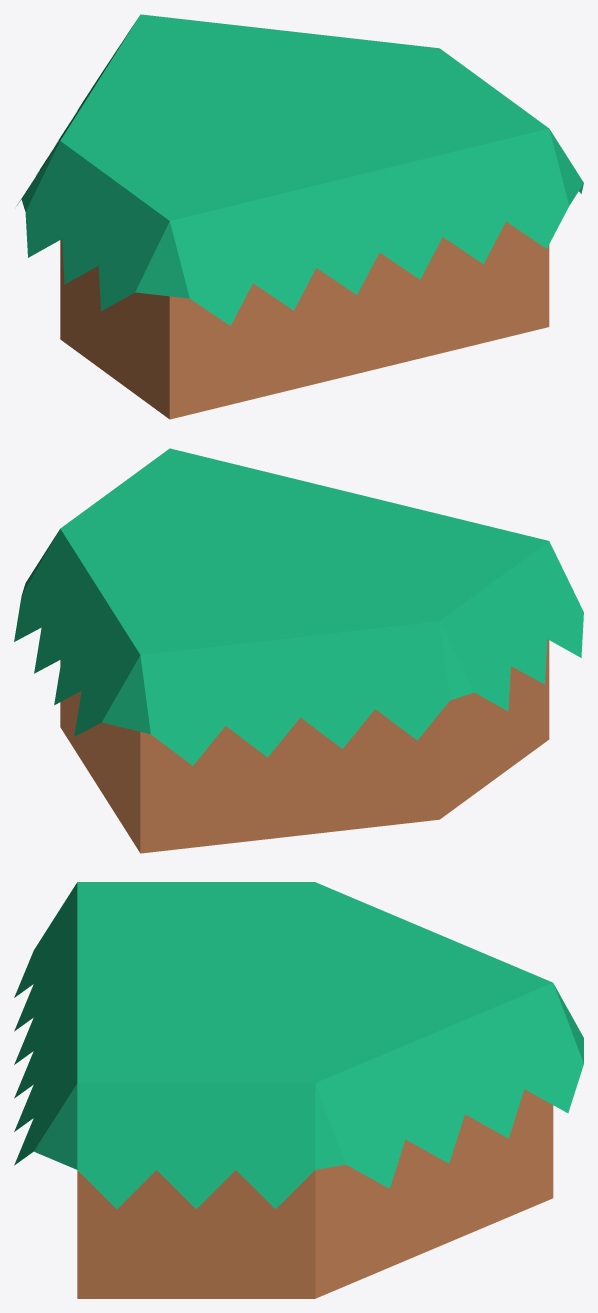
Rendered from blockEnd.dae.
3 views of the same model, one above another, from view 1: azimuth 30°, elevation 25°; view 2: azimuth 150°, elevation 25°; view 3: azimuth 270°, elevation 25° (orthographic). The views are drawn at different scales.
Parts seen in each view (by area): view 1: blockEnd; view 2: blockEnd; view 3: blockEnd.
Part boxes in pixels (box(x1,y1,x2,y2)): blockEnd: box(17, 14, 583, 419); blockEnd: box(14, 448, 583, 853); blockEnd: box(14, 882, 583, 1298).
Size of the model in its own units: 1.27 by 0.5 by 1.2.
